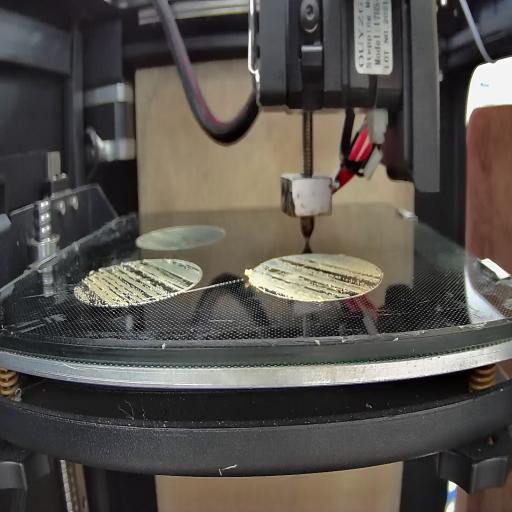under_extrusion: (258, 251, 380, 302), (78, 261, 198, 307)
